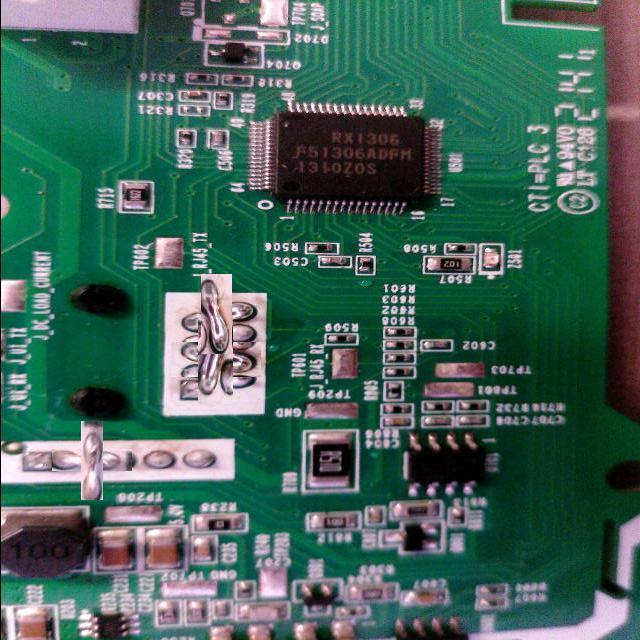Short_circuit: (185, 328, 247, 391), (188, 286, 244, 342), (67, 434, 118, 486)
